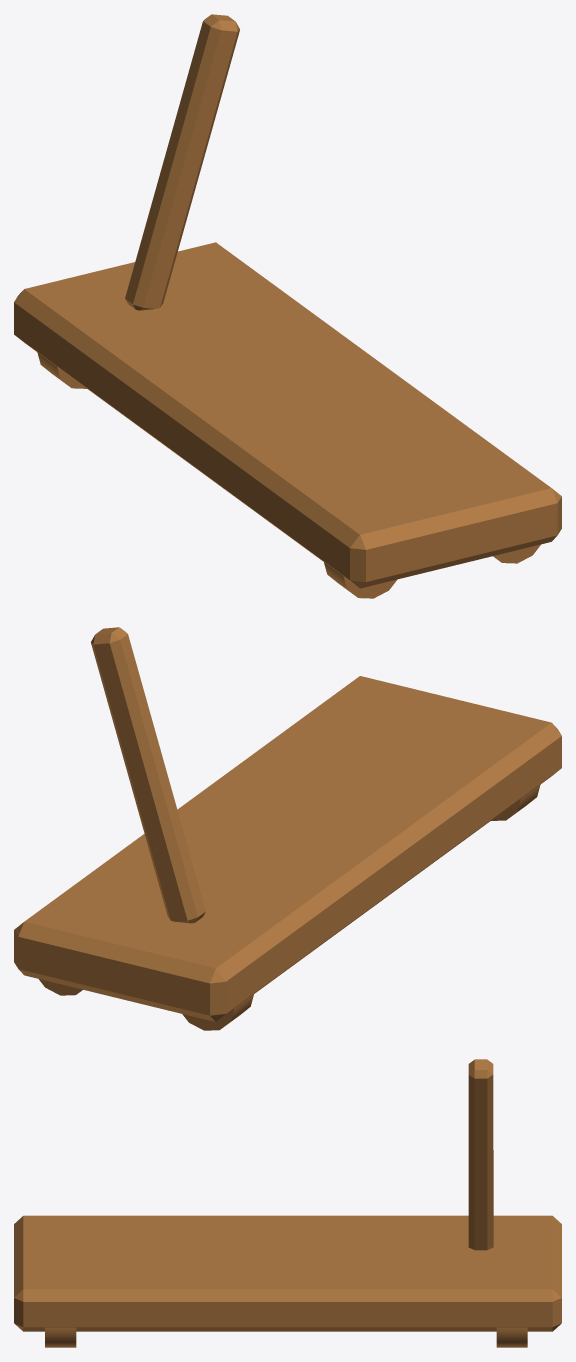
The model's file is SM_Menu_SceneryWagonBase.fbx.
3 renders of one model, top to bottom at view 1: azimuth 30°, elevation 25°; view 2: azimuth 150°, elevation 25°; view 3: azimuth 270°, elevation 25°, orthographic. The views are drawn at different scales.
Visible parts, largest first — view 1: SM_Menu_SceneryWagonBase; view 2: SM_Menu_SceneryWagonBase; view 3: SM_Menu_SceneryWagonBase.
Boxes of the visible parts, box(x1,y1,x2,y2) form: SM_Menu_SceneryWagonBase: box(14, 14, 561, 598); SM_Menu_SceneryWagonBase: box(14, 627, 561, 1030); SM_Menu_SceneryWagonBase: box(14, 1059, 561, 1347).
Size of the model in its own units: 62 by 176 by 97.75.
